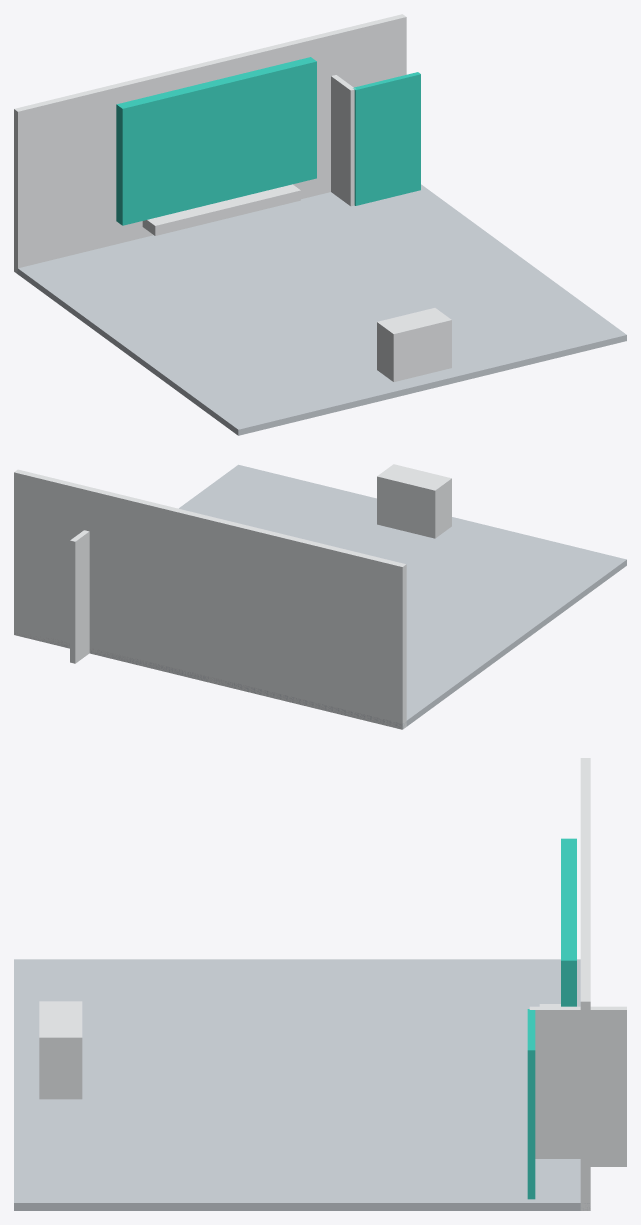
3 renders of one model, top to bottom at view 1: azimuth 30°, elevation 25°; view 2: azimuth 150°, elevation 25°; view 3: azimuth 270°, elevation 25°, orthographic. The views are drawn at different scales.
Visible parts, largest first — view 1: Exhibition Booth Concept; view 2: Exhibition Booth Concept; view 3: Exhibition Booth Concept.
Boxes of the visible parts, <box> form: Exhibition Booth Concept: <box>14,14,626,435</box>; Exhibition Booth Concept: <box>14,464,626,729</box>; Exhibition Booth Concept: <box>14,758,626,1210</box>.
Size of the model in its own units: 8 by 3.2 by 8.51.
